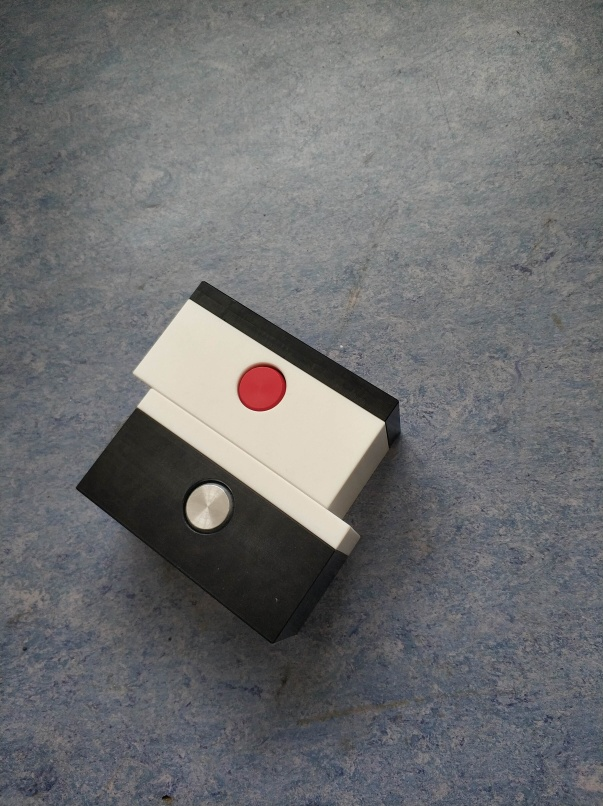black+white+red: (130, 278, 407, 509)
white+black+silver: (71, 382, 366, 639)
